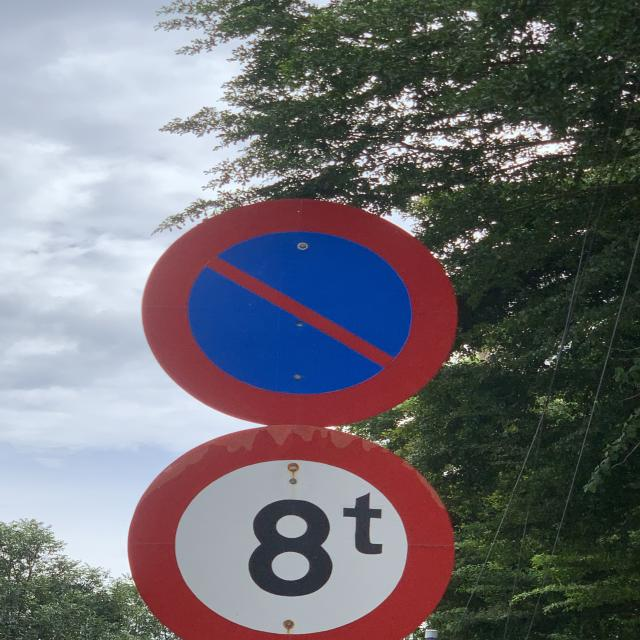Cam_Dau_Xe: (140, 199, 457, 425)
